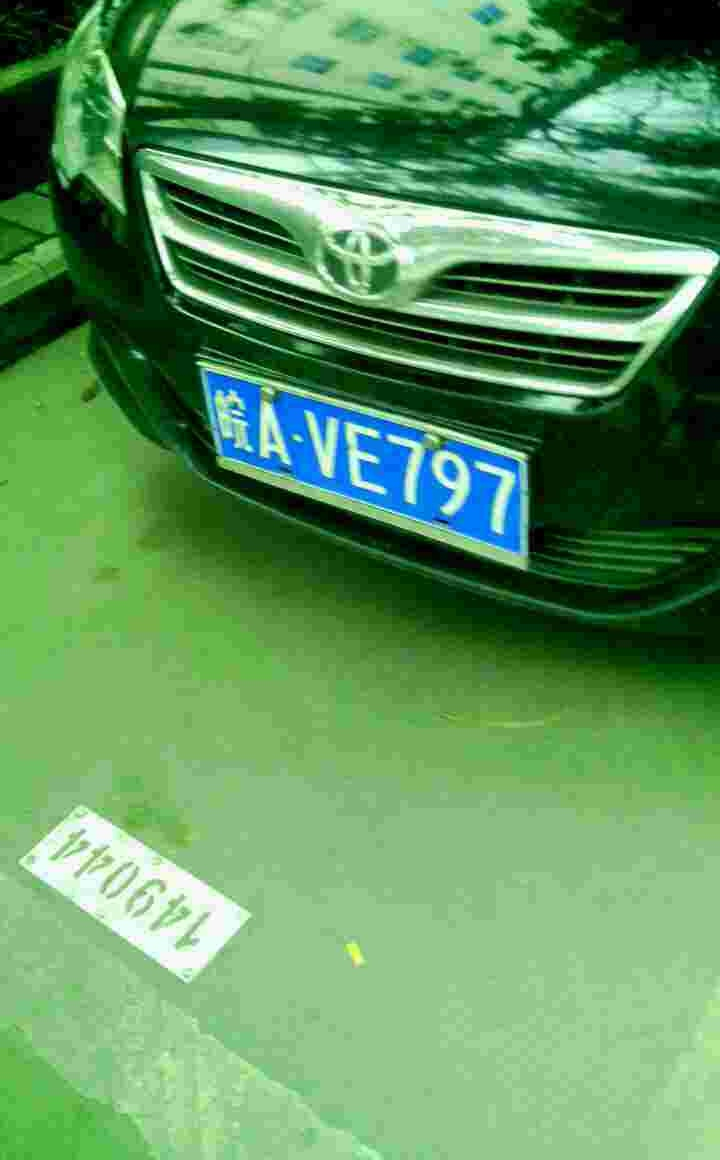license_plate: (203, 372, 532, 538)
